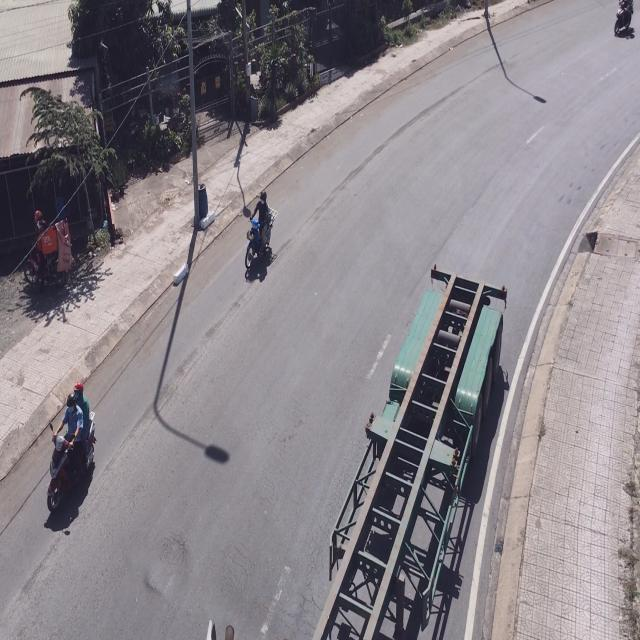motorbike: (48, 382, 97, 530), (242, 192, 273, 285), (615, 1, 637, 40)
truck: (309, 266, 506, 640)
